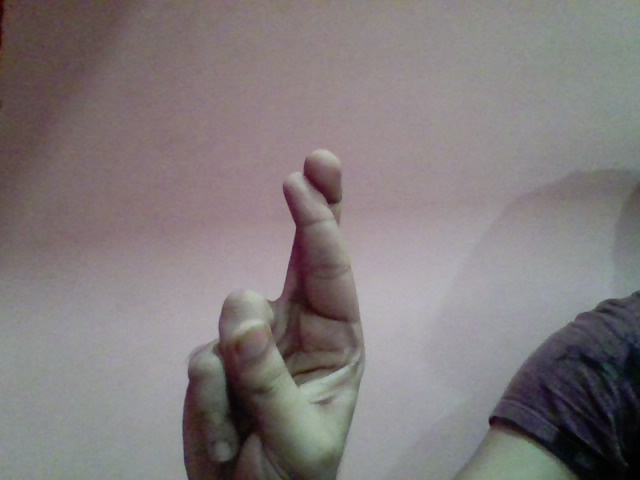r: (173, 136, 375, 480)
